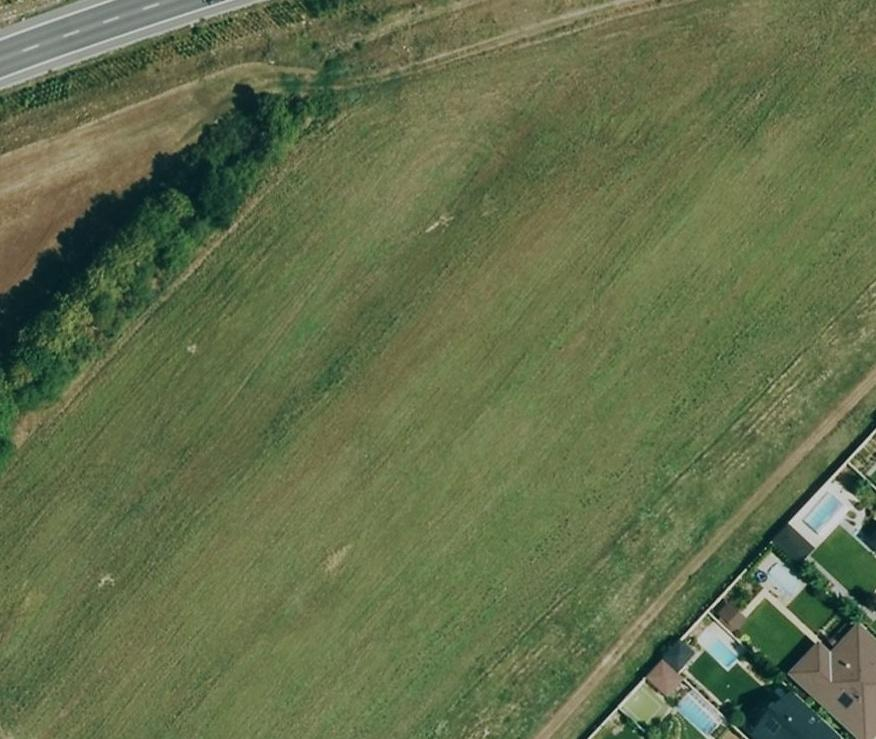field: (0, 0, 876, 736)
forest: (0, 84, 334, 466)
